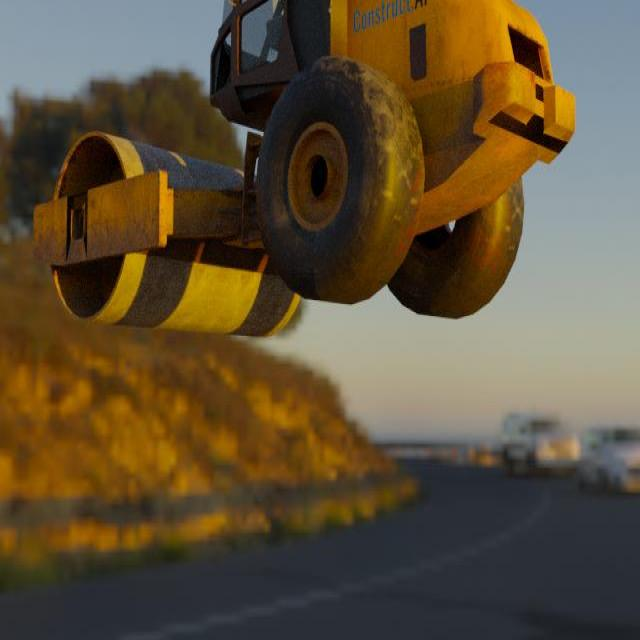Roller: (32, 0, 575, 339)
